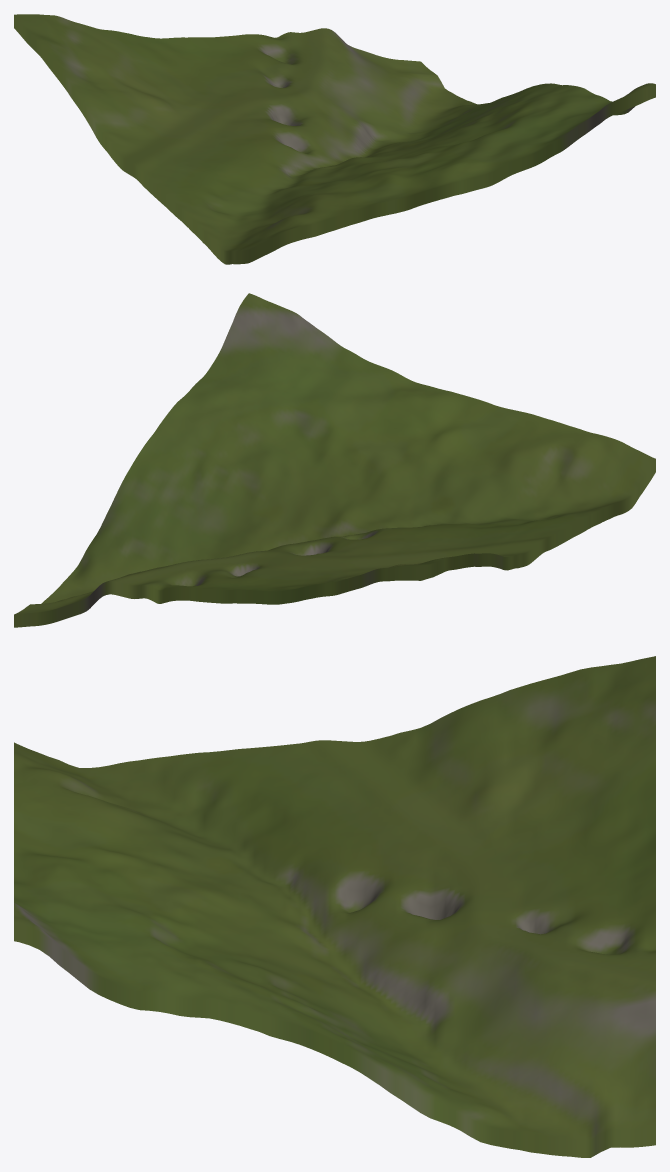
File: terrain_2_-3.glb
3 renders of one model, top to bottom at view 1: azimuth 30°, elevation 25°; view 2: azimuth 150°, elevation 25°; view 3: azimuth 270°, elevation 25°, orthographic. The views are drawn at different scales.
Parts seen in each view (by area): view 1: terrain_2_-3; view 2: terrain_2_-3; view 3: terrain_2_-3.
Part boxes in pixels (left/top/right/bottom): terrain_2_-3: left=14, top=14, right=655, bottom=264; terrain_2_-3: left=14, top=293, right=655, bottom=627; terrain_2_-3: left=14, top=656, right=655, bottom=1157.
Bounding box in the file's own units: 256 × 103 × 256.
